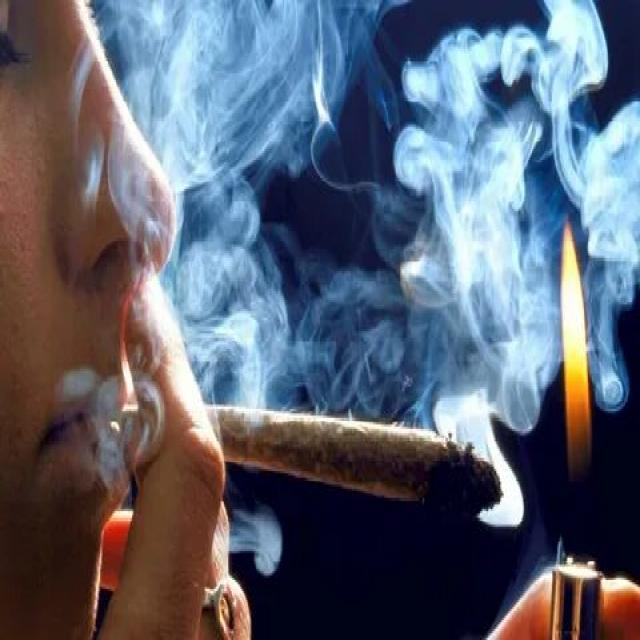smoke: (168, 402, 519, 500)
